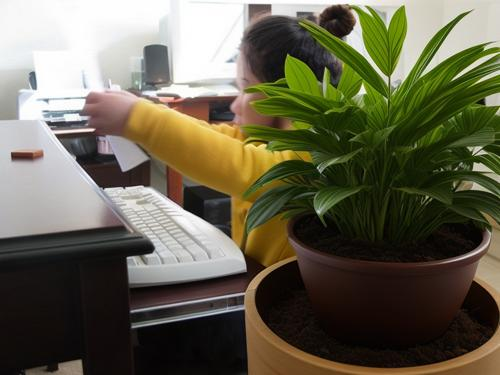person: (81, 11, 371, 370)
person/hand: (80, 90, 137, 136)
person/head: (229, 12, 366, 140)
pottedplant: (243, 4, 500, 375)
